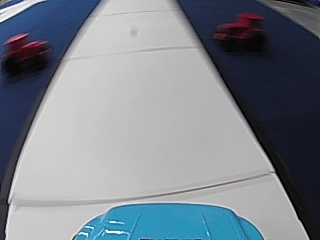tractor: (2, 30, 49, 76), (213, 11, 265, 52)
